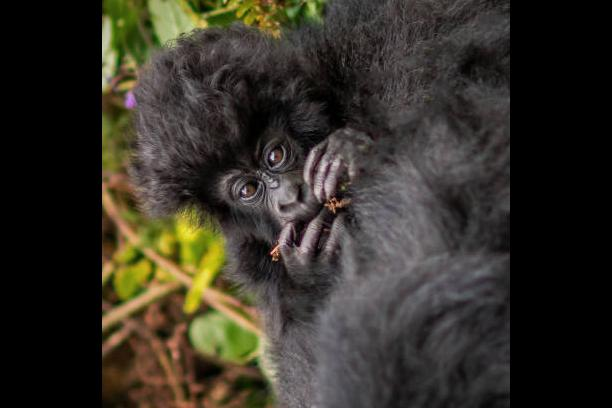goriile_montagne: (123, 0, 498, 408)
